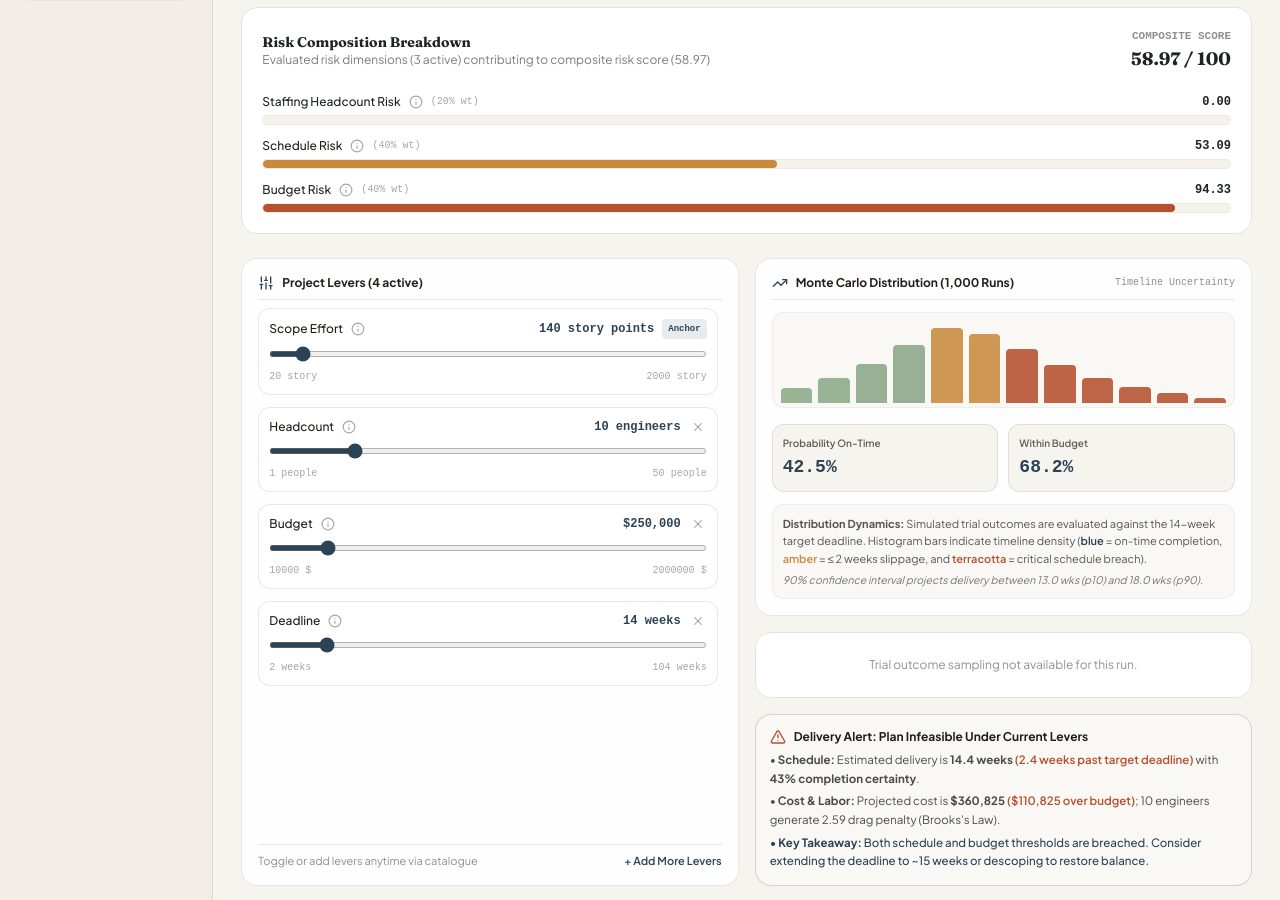
Scenario: ProjectsDashboardPage — Interactive Workable Dashboard › updates calculations dynamically when moving the headcount slider
(page scrolled)
Expected: the text "10 engineers" is shown, left=594, top=418, right=681, bottom=434
// Adjust headcount to 6
Set the 2nd slider to "6" at (320, 450), box left=269, top=448, right=707, bottom=454
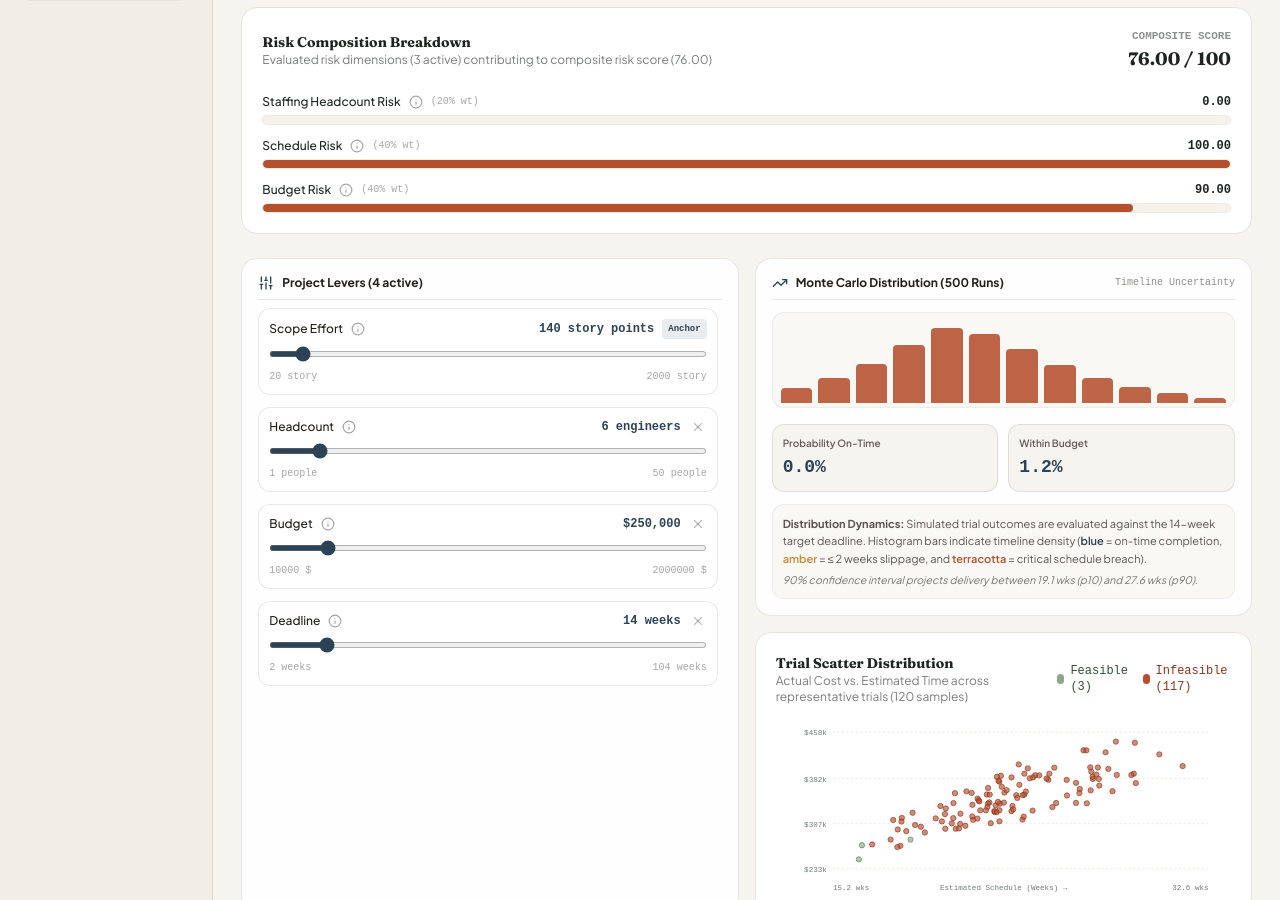
Expected: the text "6 engineers" is shown, left=601, top=418, right=681, bottom=434
